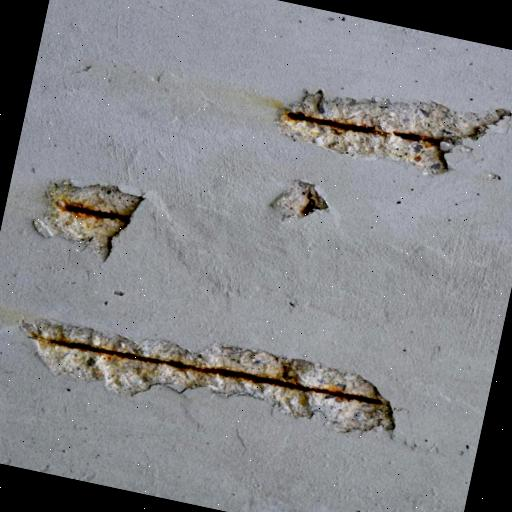spalling: (18, 312, 394, 436), (274, 87, 507, 175), (42, 176, 149, 256), (274, 174, 334, 217)
